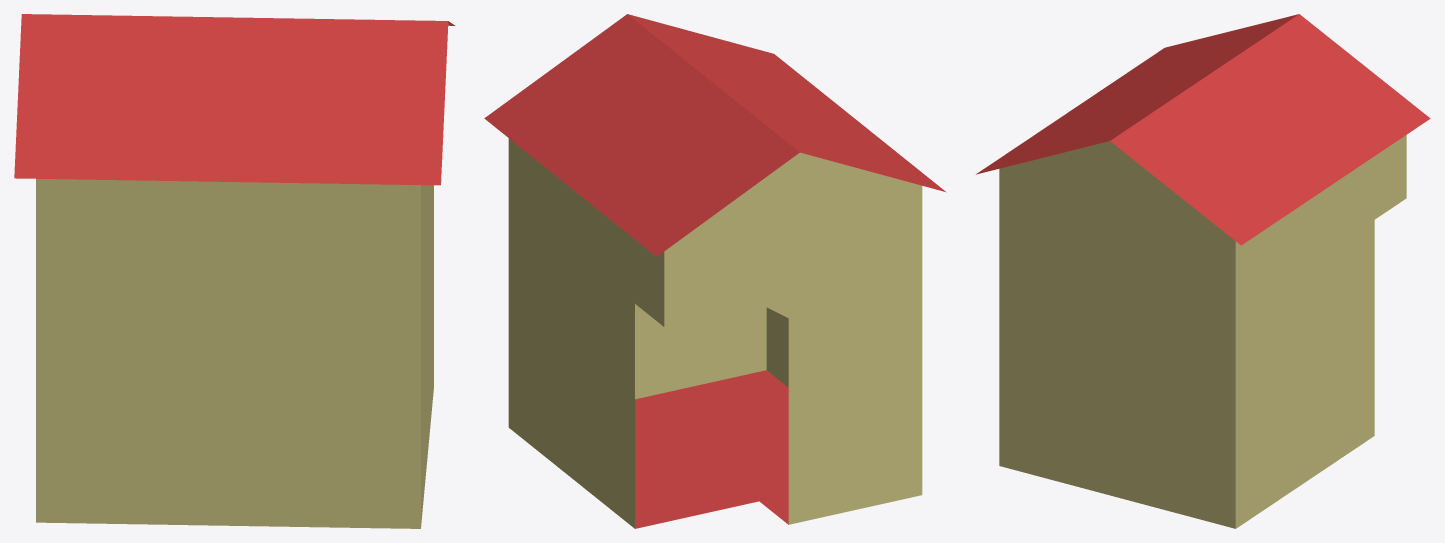
The picture shows the model from 3 angles, left to right: view 1: azimuth 30°, elevation 25°; view 2: azimuth 150°, elevation 25°; view 3: azimuth 270°, elevation 25°; orthographic projection. The views are drawn at different scales.
Size of the model in its own units: 13.49 by 13.12 by 11.54.
